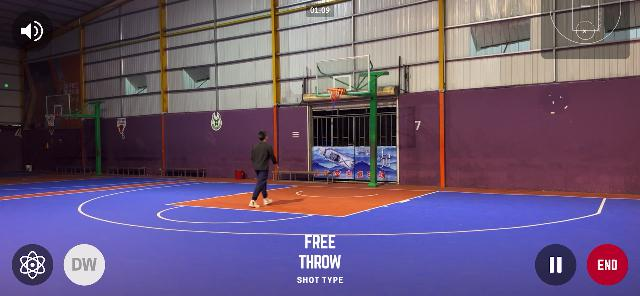basket: (326, 86, 346, 104)
goal: (330, 92, 340, 101)
